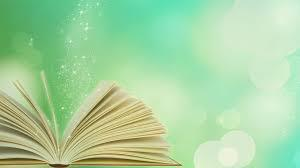Paper: (0, 68, 206, 168)
